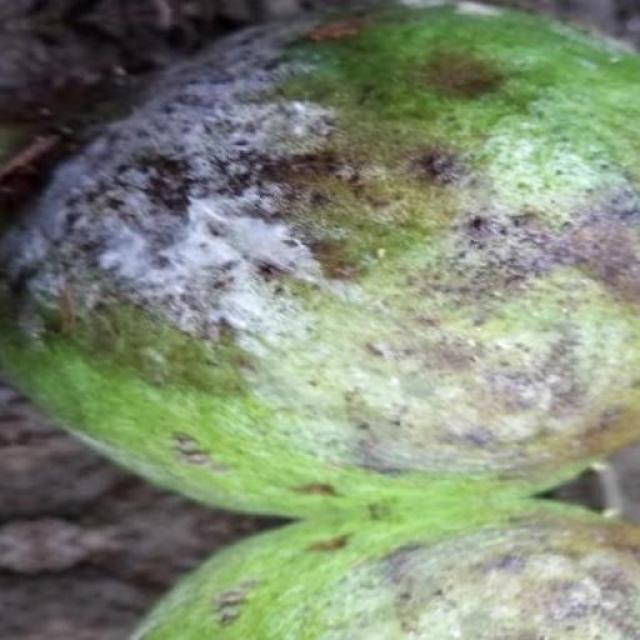Phytopthora: (0, 6, 640, 640)
